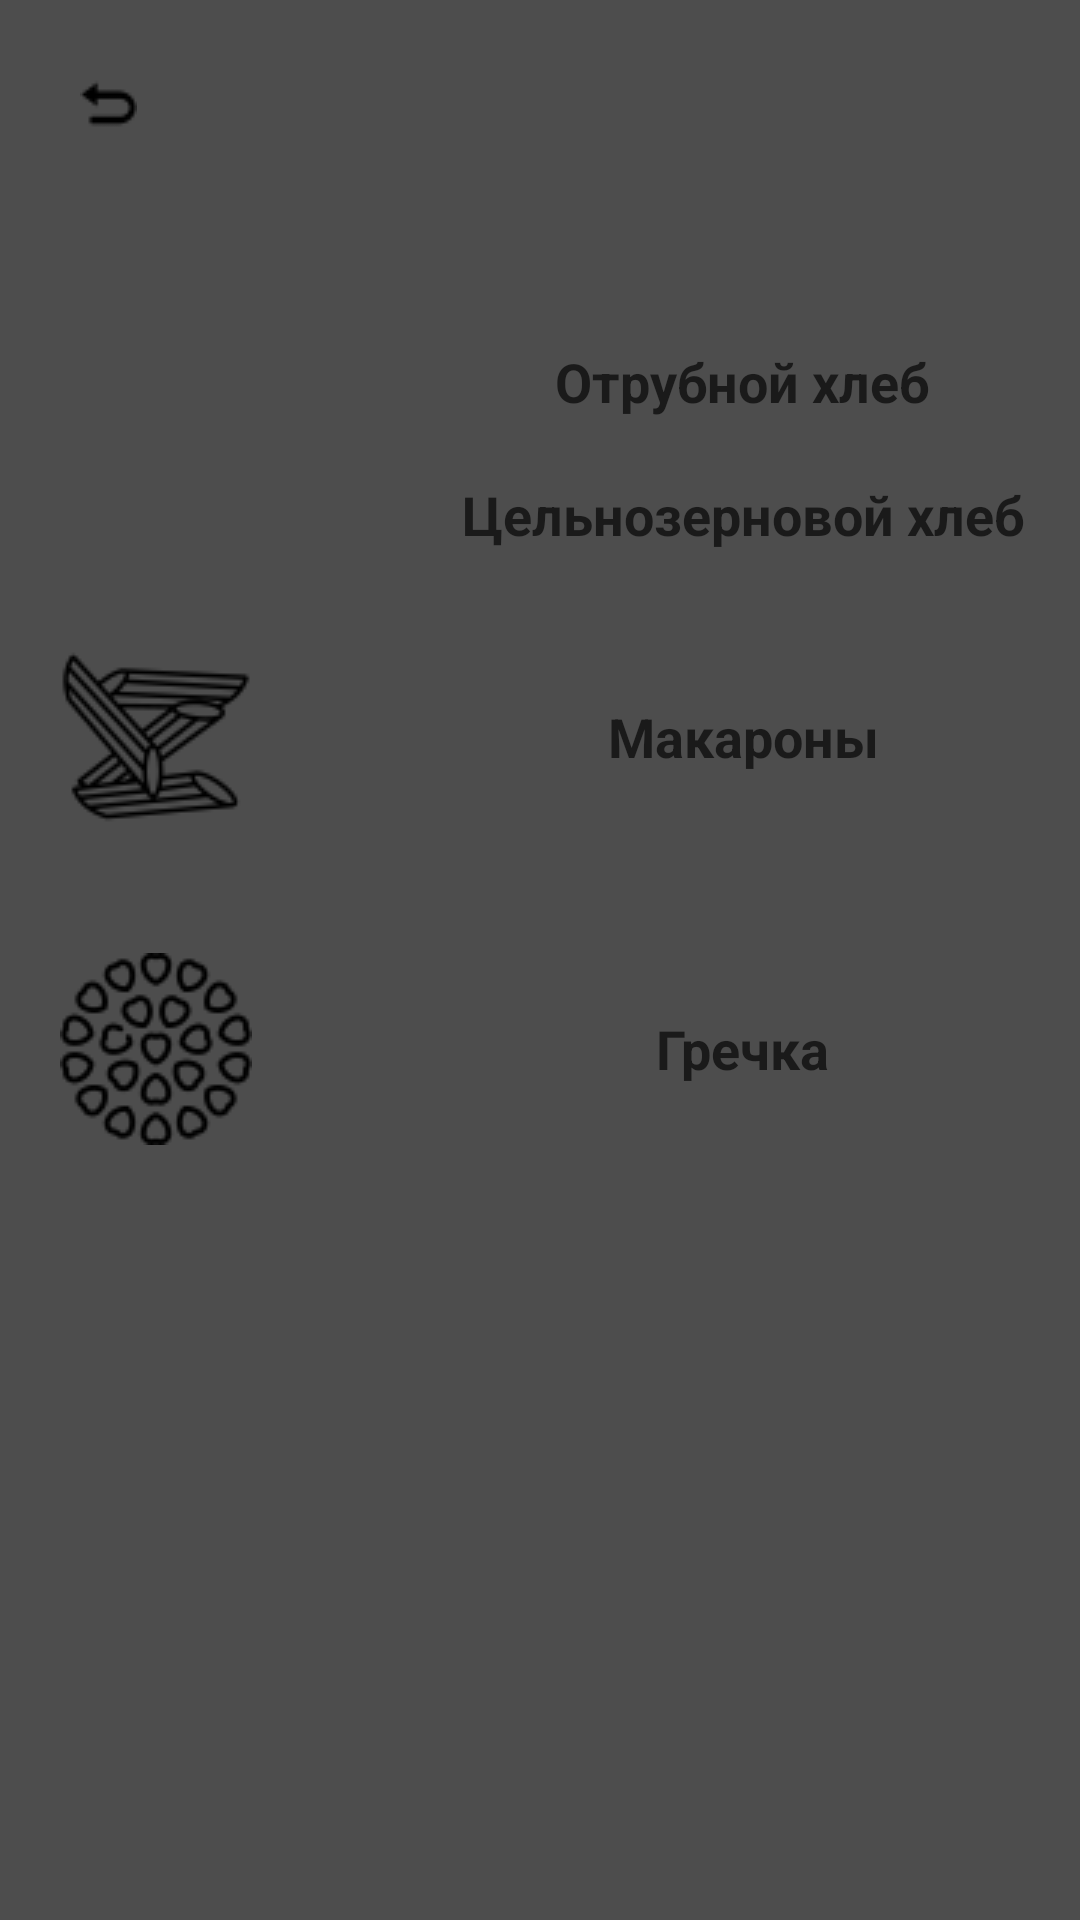

Icon bounding boxes for this 1080px x 1920px phone screenshot, format BBox(x1, y1, x2, y2):
grecha: BBox(60, 953, 252, 1145)
makaroni: BBox(63, 655, 249, 819)
return: BBox(82, 84, 137, 124)
